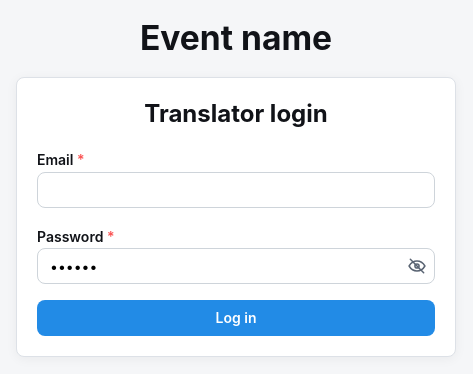
Test: LoginPage › centers the shared login layout and toggles password visibility with an SVG control
Click the button named "Show password".
click(417, 266)  # box [401,250,433,282]
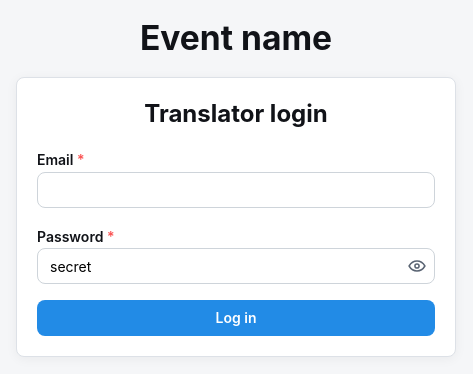
expect the field labelled "Password" shows its text: met, box [37,248,435,284]
expect the button named "Hide password" is shown: met, box [401,250,433,282]
